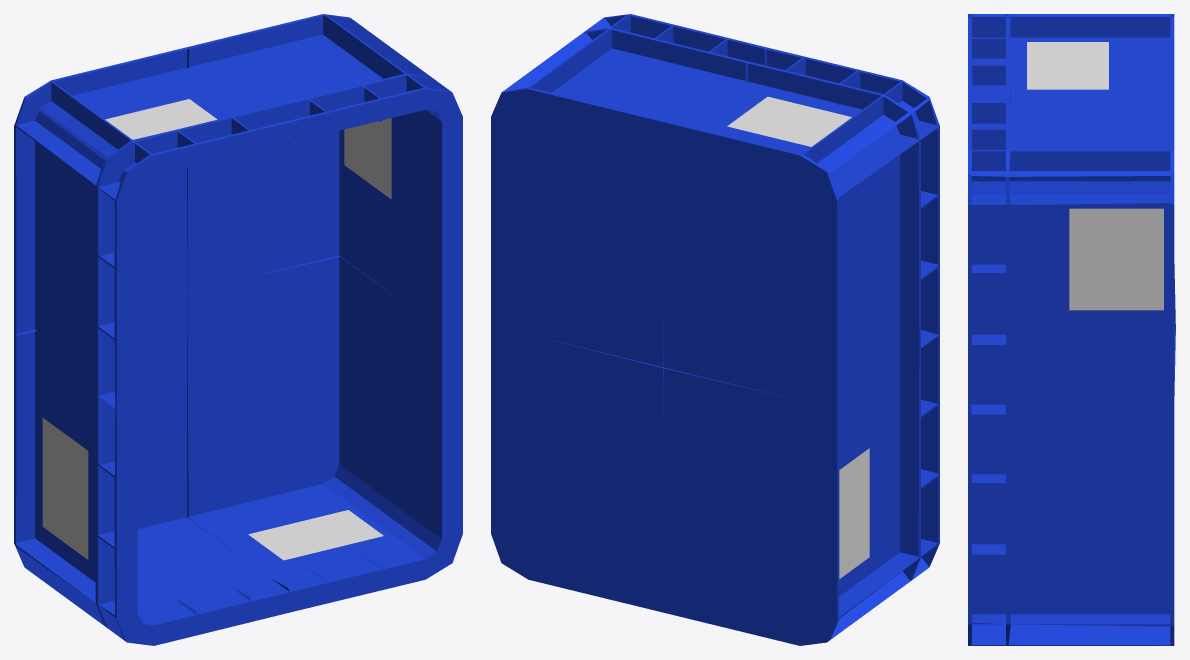
Rendered from warehouse_container_2.glb.
3 renders of one model, left to right at view 1: azimuth 30°, elevation 25°; view 2: azimuth 150°, elevation 25°; view 3: azimuth 270°, elevation 25°, orthographic.
Parts seen in each view (by area): view 1: warehouse_container; view 2: warehouse_container; view 3: warehouse_container.
Boxes of the visible parts, x1,y1,x2,y2 form: warehouse_container: (14,14,462,645); warehouse_container: (491,14,939,645); warehouse_container: (968,14,1175,645).
Size of the model in its own units: 0.3955 by 0.5358 by 0.205.
